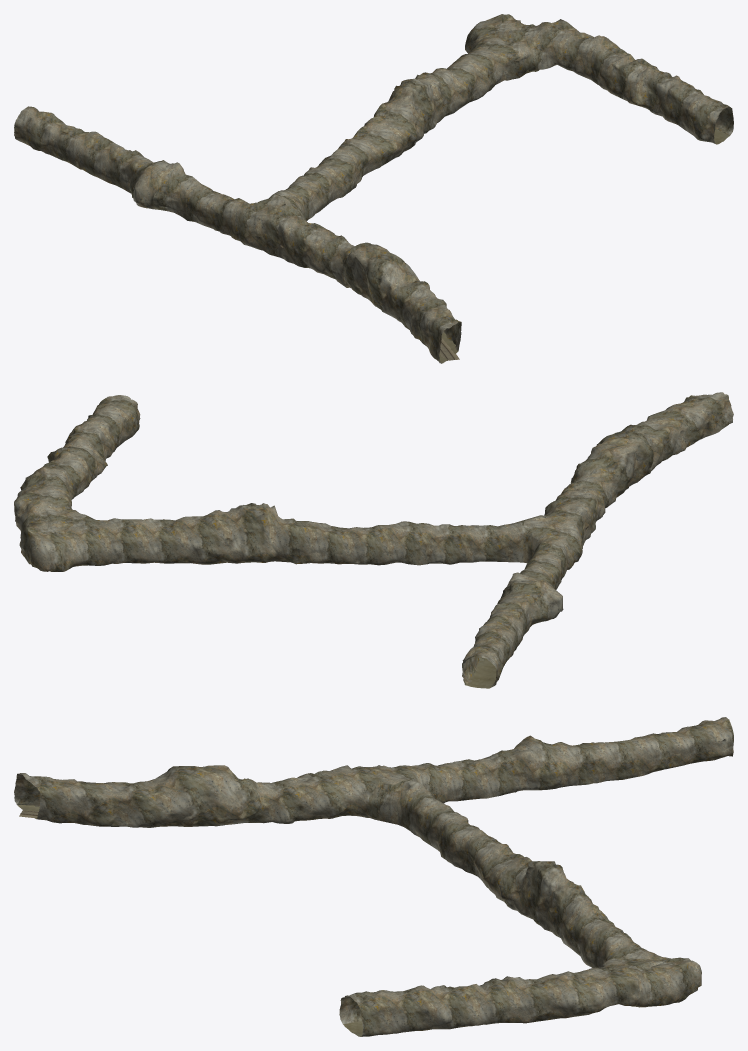
The model's file is Edgar_Section_09.DAE.
The picture shows the model from 3 angles, top to bottom: view 1: azimuth 30°, elevation 25°; view 2: azimuth 150°, elevation 25°; view 3: azimuth 270°, elevation 25°; orthographic projection. The views are drawn at different scales.
Parts seen in each view (by area): view 1: Section_09_Walls; view 2: Section_09_Walls, Section_09_Ground; view 3: Section_09_Walls.
Boxes of the visible parts, x1,y1,x2,y2 form: Section_09_Walls: (14,14,733,363); Section_09_Walls: (14,392,733,687); Section_09_Ground: (29,430,720,688); Section_09_Walls: (14,717,733,1036).
Bounding box in the file's own units: 4802 × 436 × 4991.
Materials: 3 (3 with a texture image).
